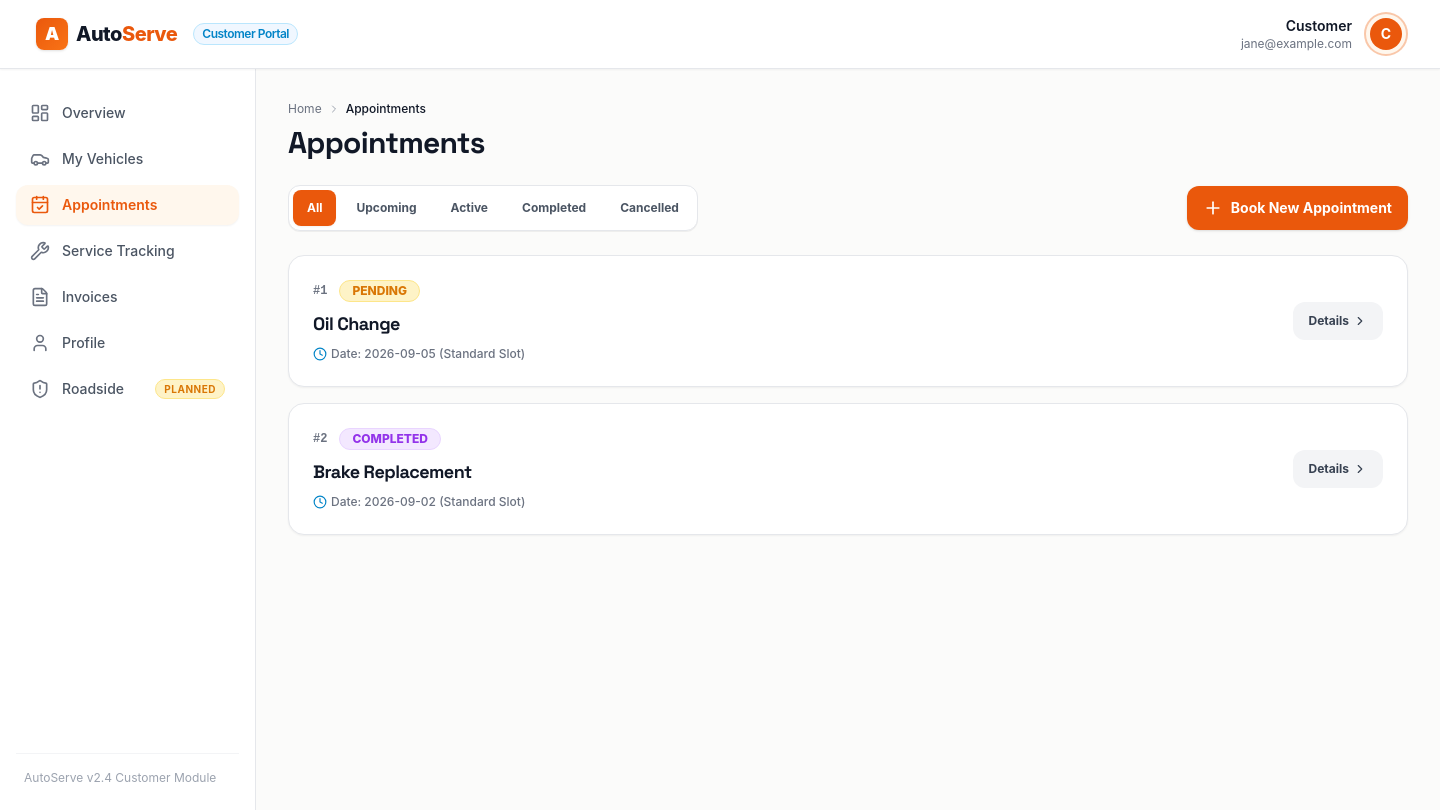
Scenario: Appointment Booking & List Tests › 17. filters appointments by status tabs (All, Upcoming, Active, Completed, Cancelled)
This screenshot has width=1440, height=810.
Expected: the heading "Oil Change" is shown, [313,312,400,335]
Expected: the heading "Brake Replacement" is shown, [313,460,472,483]
Click the button "Completed": [554, 208] box [508,190,600,226]
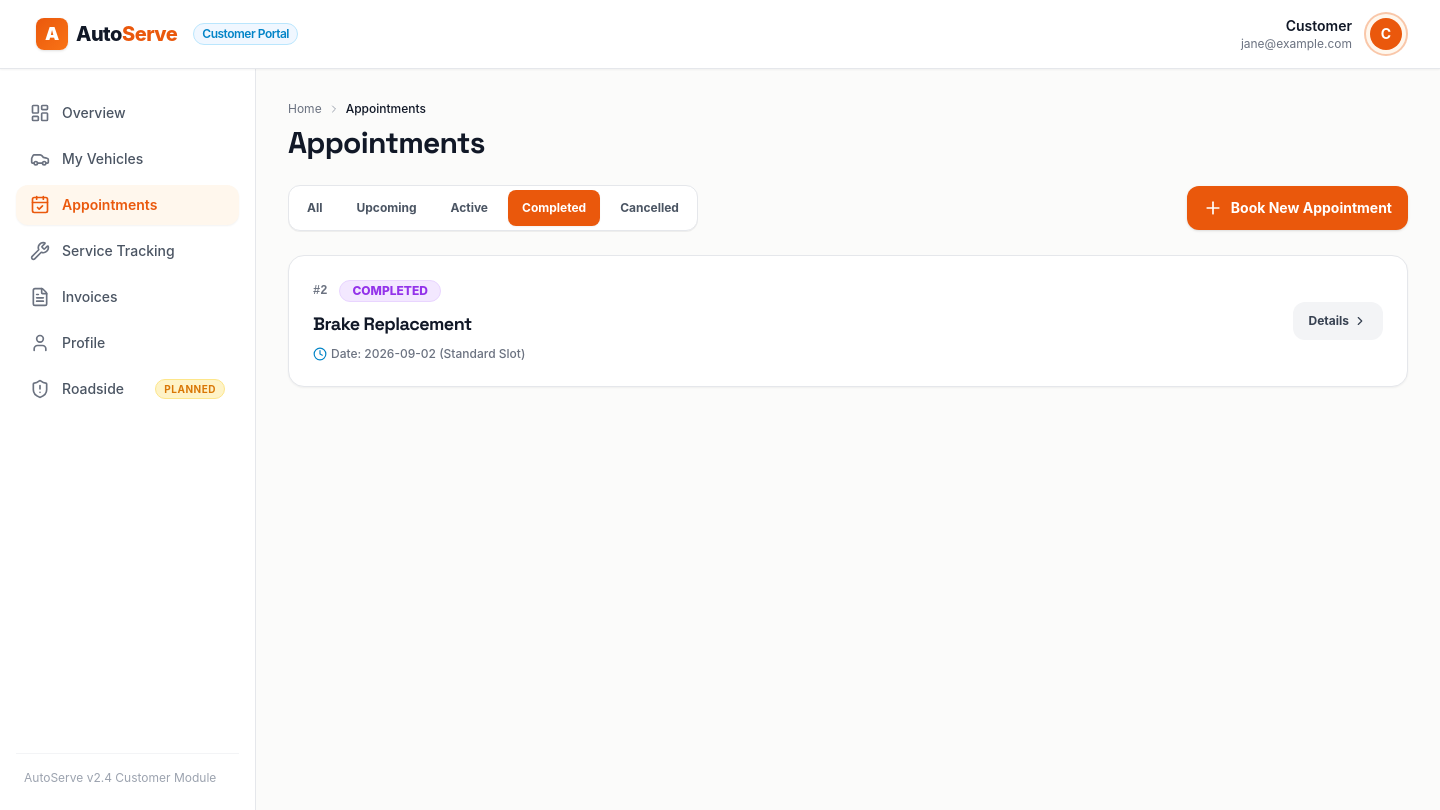
Expected: the heading "Brake Replacement" is shown, [313,312,472,335]
Now the heading "Oil Change" is gone
